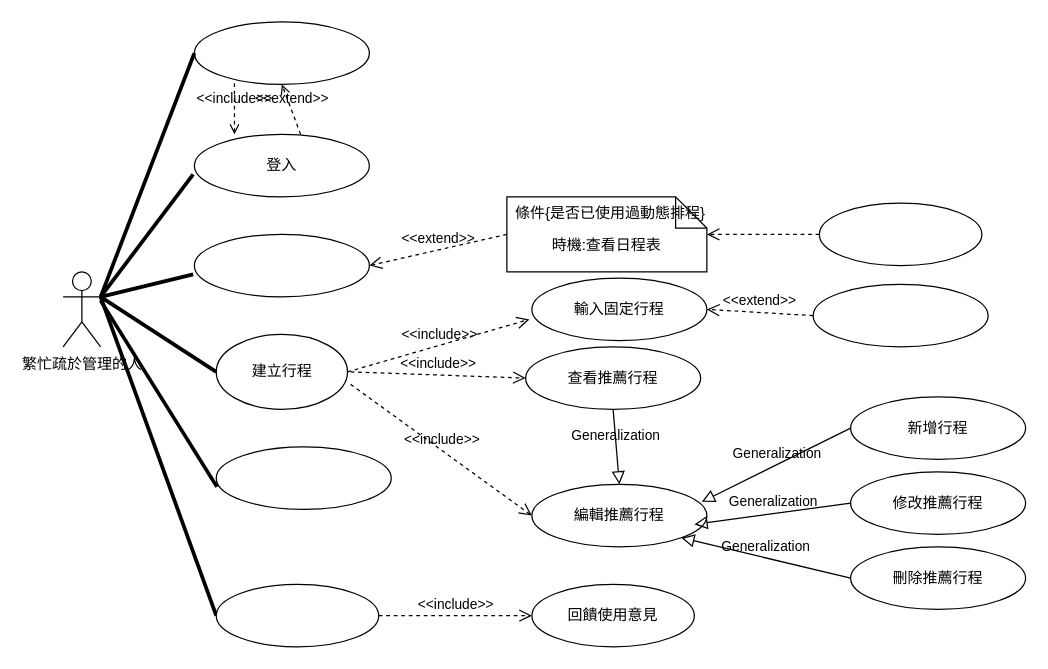
Image size: 1048x669. Some labels were removed from this diagram. The centre of each missing label's shape, as x and y in pixels:
"撰寫想加入行程" goes at (900,315).
"查看動態排程" goes at (900,234).
"查看日程表" goes at (281,265).
"結束行程" goes at (297,615).
"編輯行程" goes at (303,477).
"註冊" goes at (281,52).
